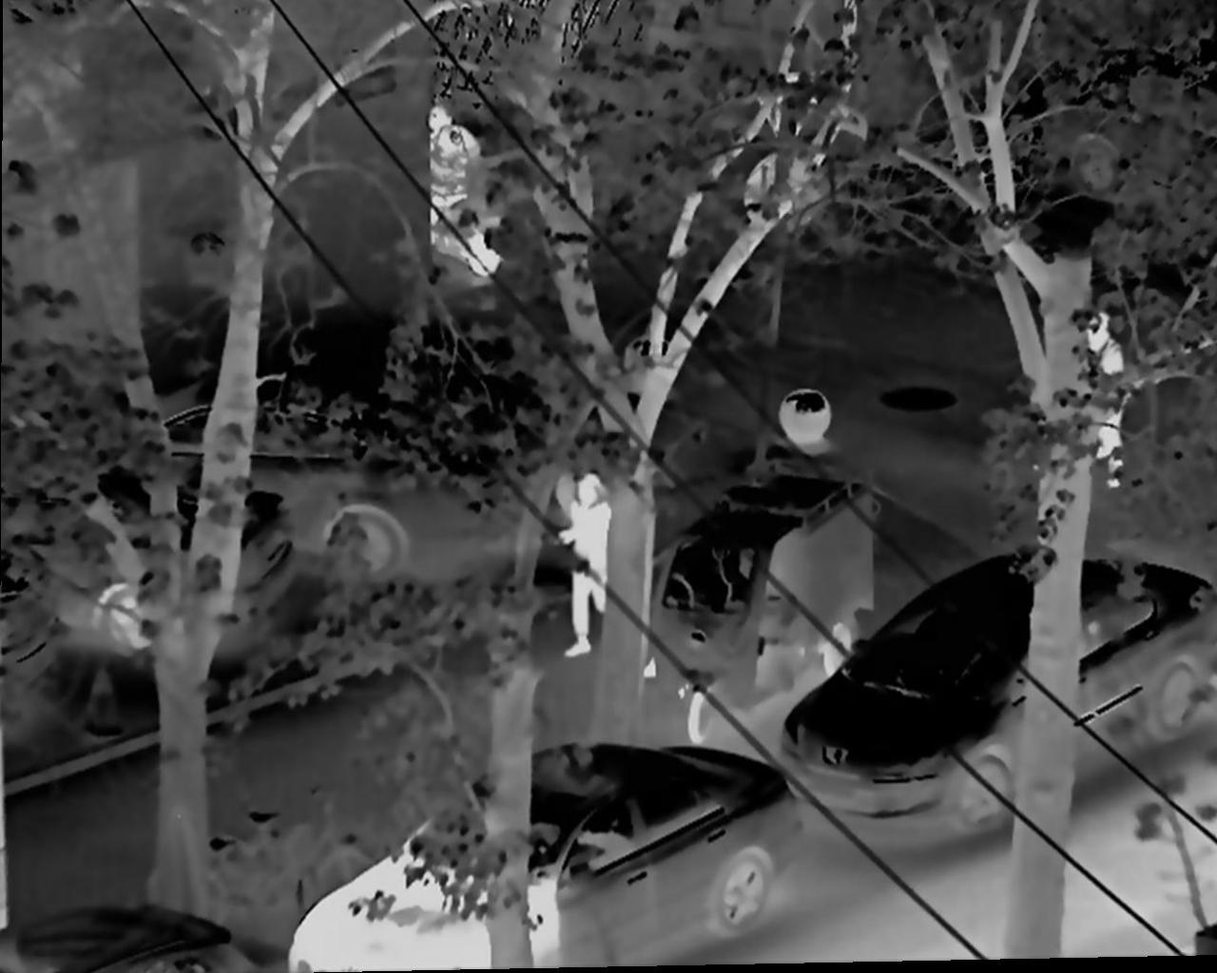person: (413, 100, 499, 287), (558, 469, 632, 665), (1073, 309, 1136, 492)
